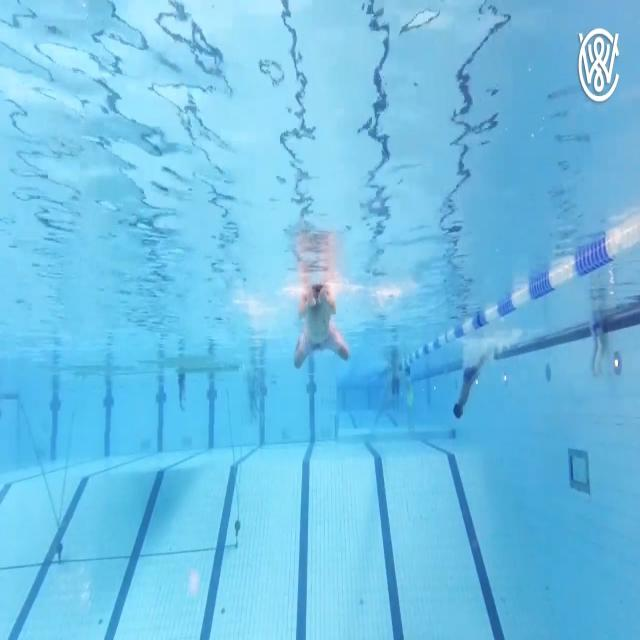Swimming: (293, 282, 352, 370), (452, 340, 498, 420)
